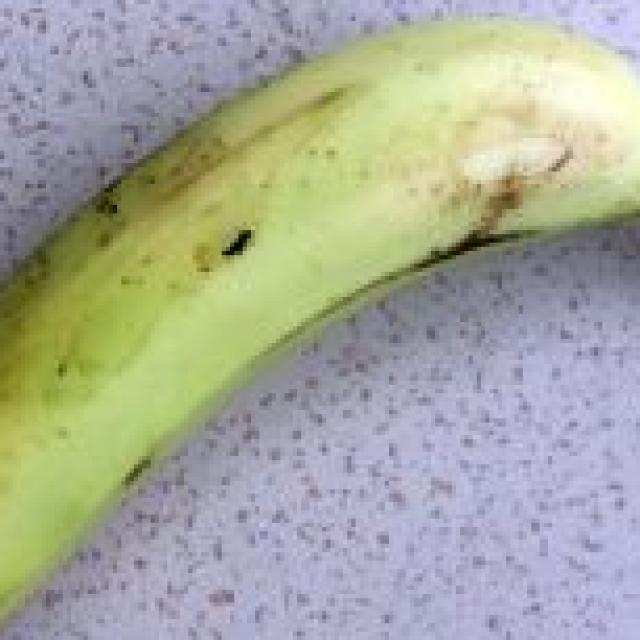Good_Banana-2-3 days: (0, 19, 640, 618)
